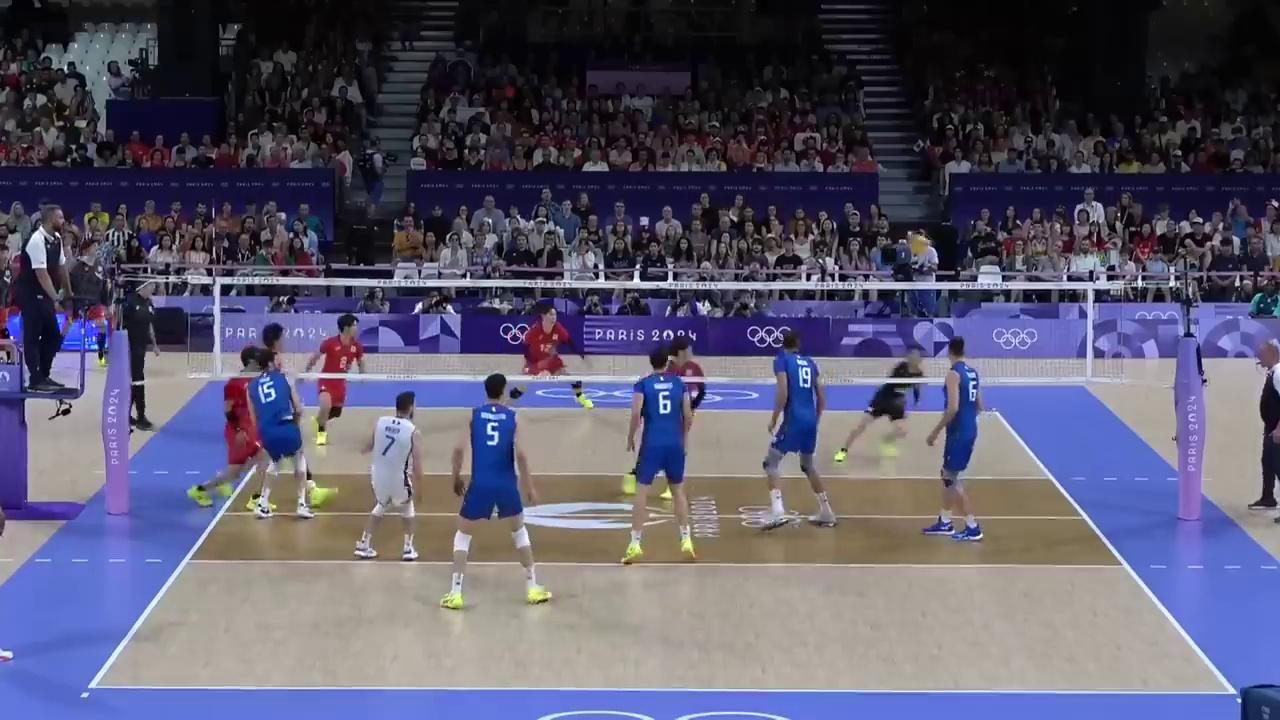ball: (908, 236, 928, 258)
